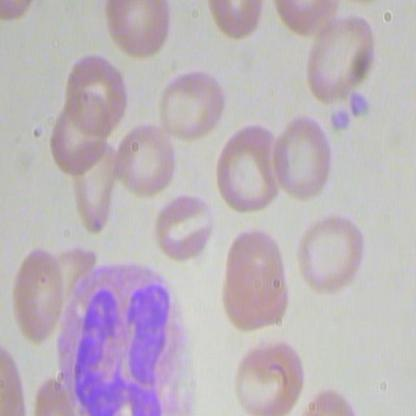Platelets: (349, 88, 373, 122), (329, 104, 353, 134)
RBC: (304, 11, 384, 109), (214, 119, 290, 220), (291, 211, 368, 304), (230, 333, 309, 415), (268, 112, 338, 204), (64, 41, 127, 142), (156, 61, 230, 145), (10, 243, 67, 352), (66, 135, 125, 240), (221, 225, 287, 311), (113, 120, 178, 202), (154, 186, 216, 269), (105, 1, 176, 67)
WBC: (51, 256, 200, 415)
